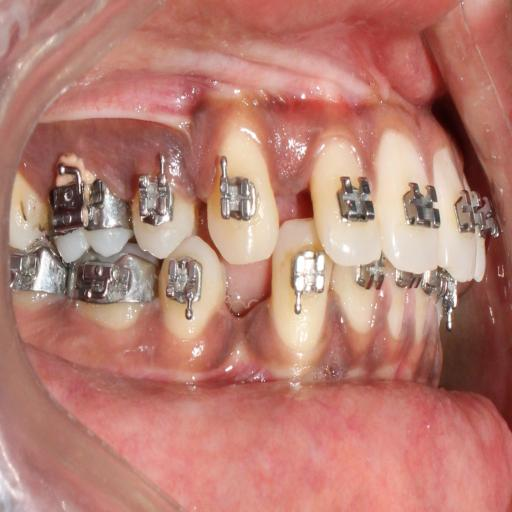correct_brace: (160, 237, 223, 345), (134, 168, 196, 258), (216, 151, 262, 229), (330, 162, 374, 229), (164, 255, 205, 320), (399, 171, 440, 234)
incorrect_brace: (308, 140, 382, 263), (136, 175, 176, 229)
